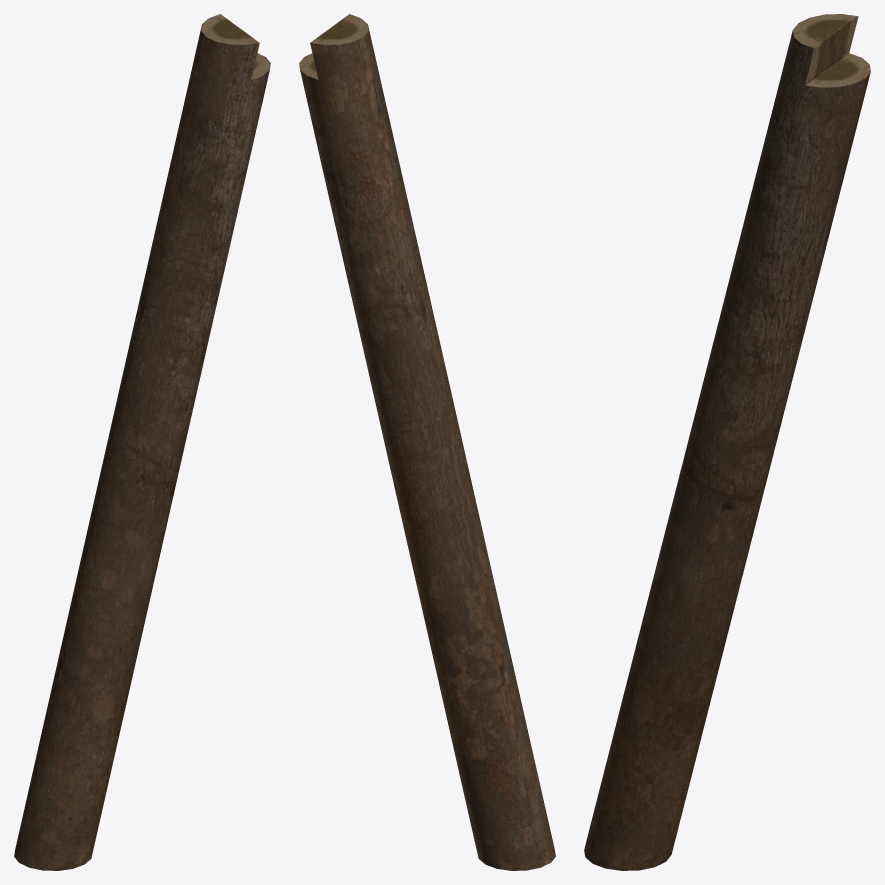
Rendered from ThreeSupportBC.glb.
3 renders of one model, left to right at view 1: azimuth 30°, elevation 25°; view 2: azimuth 150°, elevation 25°; view 3: azimuth 330°, elevation 25°, orthographic. The views are drawn at different scales.
Parts seen in each view (by area): view 1: ThreeSupportBC; view 2: ThreeSupportBC; view 3: ThreeSupportBC.
Boxes of the visible parts, left/top/right/bottom form: ThreeSupportBC: left=14, top=14, right=270, bottom=870; ThreeSupportBC: left=299, top=14, right=555, bottom=870; ThreeSupportBC: left=584, top=14, right=870, bottom=870.
Size of the model in its own units: 0.7221 by 2.18 by 0.2001.
1 material, 1 textured.
